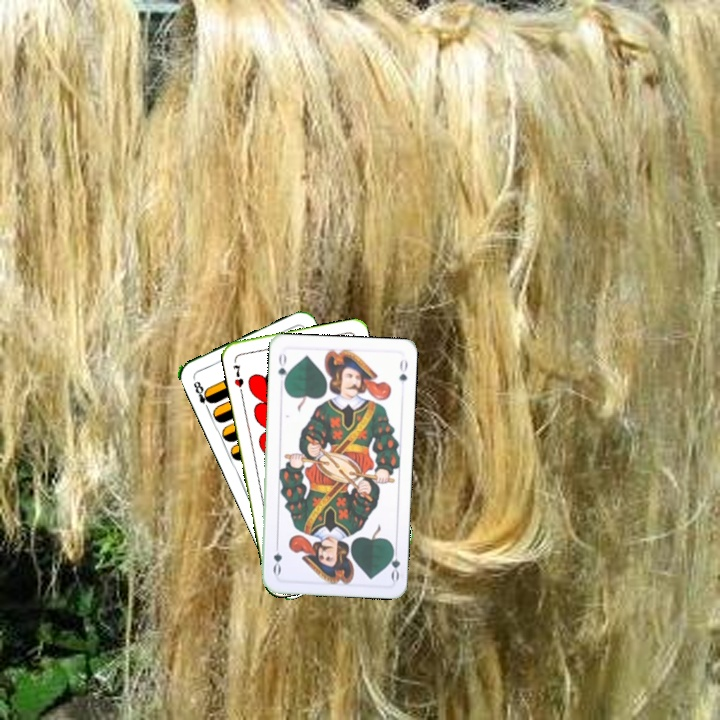E8: (189, 377, 215, 413)
GO: (384, 542, 403, 583), (274, 349, 291, 389)
H7: (229, 361, 246, 390)
